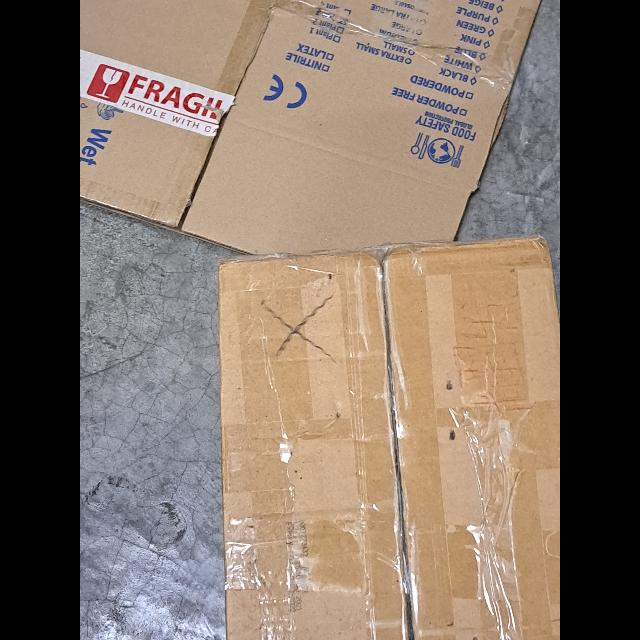papelão: (216, 236, 560, 640), (80, 0, 560, 258)
